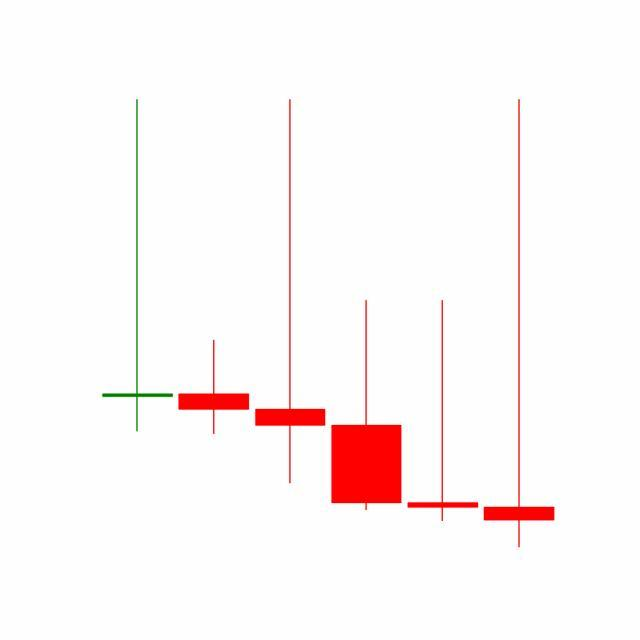Gravestone Doji: (404, 298, 482, 524)
